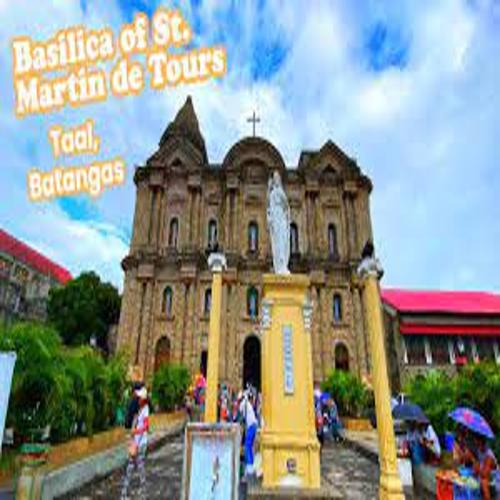Taal Basilica Church: (110, 84, 398, 444)
